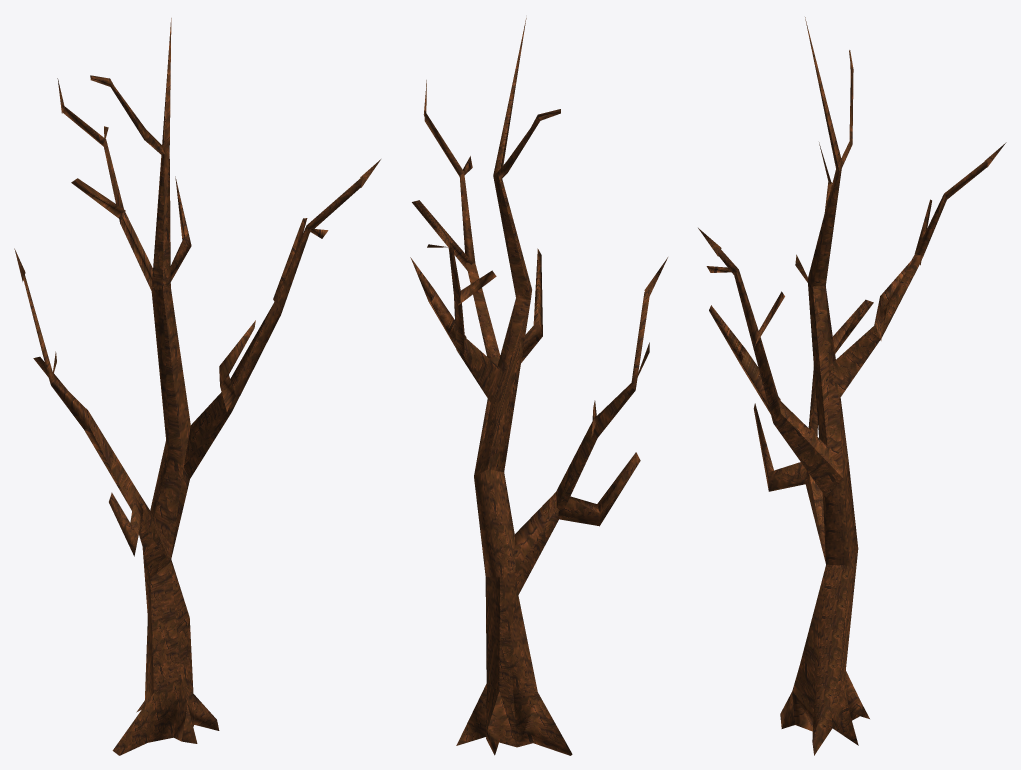
Rendered from dead_tree.obj.
The picture shows the model from 3 angles, left to right: view 1: azimuth 30°, elevation 25°; view 2: azimuth 150°, elevation 25°; view 3: azimuth 270°, elevation 25°; orthographic projection. The views are drawn at different scales.
Visible parts, largest first — view 1: tree; view 2: tree; view 3: tree.
Boxes of the visible parts, left/top/right/bottom form: tree: left=14, top=18, right=380, bottom=755; tree: left=410, top=18, right=667, bottom=755; tree: left=698, top=17, right=1006, bottom=755.
Bounding box in the file's own units: 1.57 × 3.61 × 1.41.
